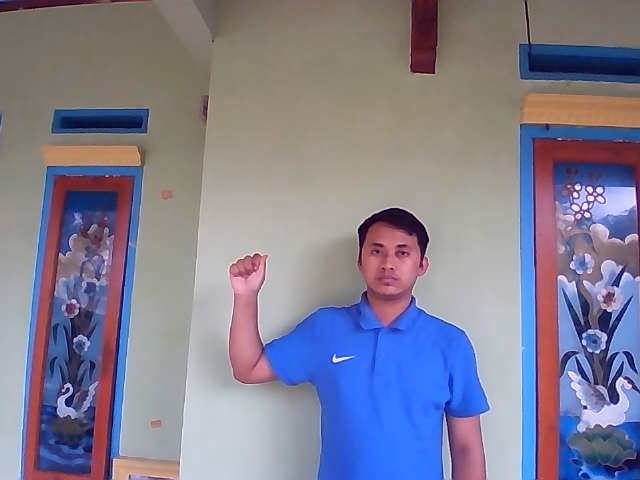A: (229, 252, 269, 295)
